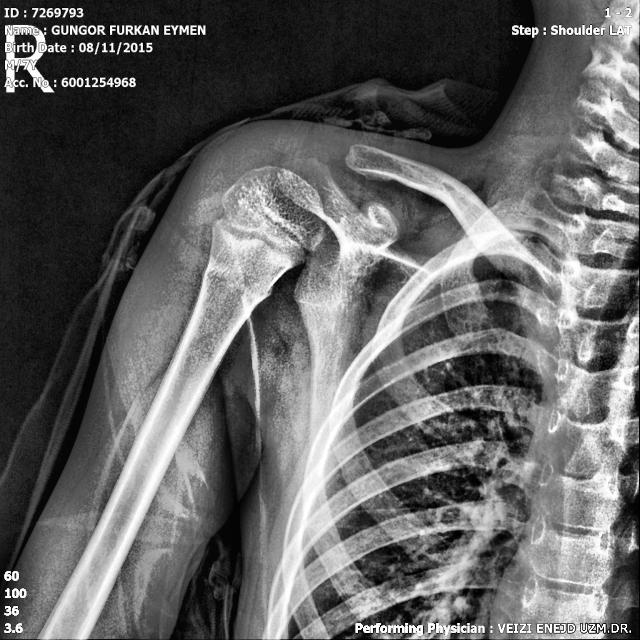Fracture: (190, 247, 282, 320)
